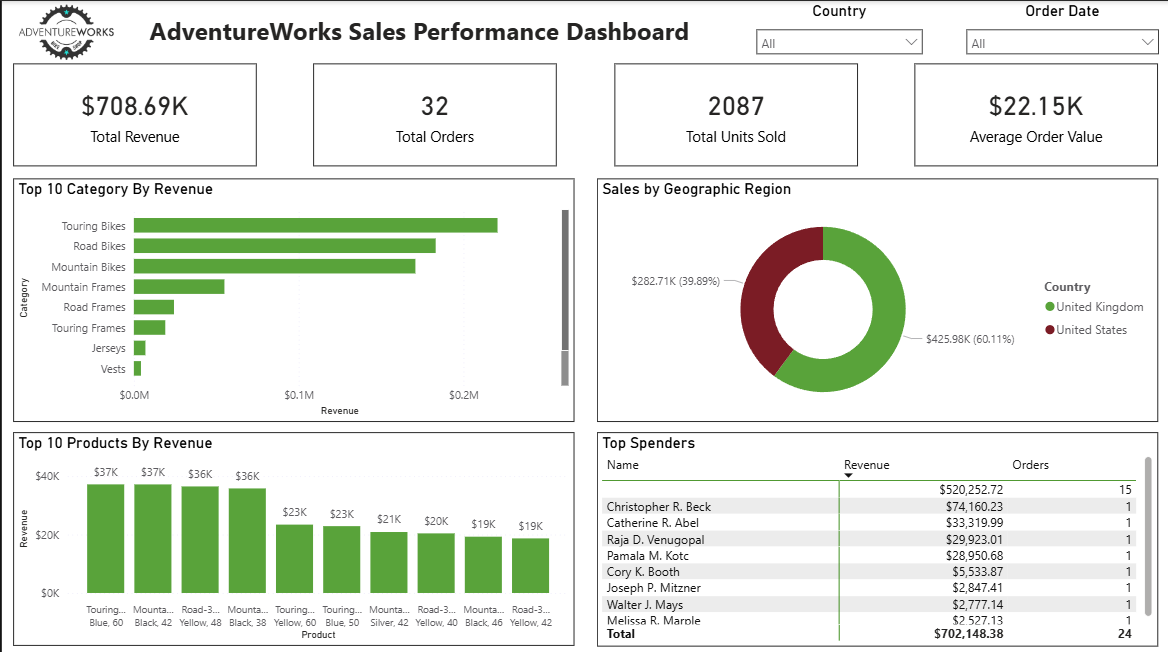

The page's visual inventory and layout, read from the dashboard file:
{"tool":"powerbi","page":{"name":"Page 1","canvas":[1280,720],"ordinal":0},"visuals":[{"type":"textbox","box":[118,9.6,680.6,49.4],"z":0},{"type":"card","fields":{"Values":["DimCustomer.Total Revenue"]},"box":[12.3,68.6,267.6,112.5],"z":3000},{"type":"card","fields":{"Values":["DimCustomer.Total Orders"]},"box":[342.1,68.6,267.6,112.5],"z":4000},{"type":"card","fields":{"Values":["DimCustomer.Total Units Sold"]},"box":[671.9,68.6,267.6,112.5],"z":5000},{"type":"card","fields":{"Values":["DimCustomer.Average Order Value"]},"box":[1001.7,68.6,267.6,112.5],"z":6000},{"type":"clusteredBarChart","title":"Top 10 Category By Revenue","fields":{"Category":["DimProduct.CategoryName"],"Y":["DimCustomer.Total Revenue"]},"box":[12.3,194.9,616.1,267.6],"z":7000},{"type":"donutChart","title":"Sales by Geographic Region","fields":{"Category":["DimCustomer.CountryRegion"],"Y":["DimCustomer.Total Revenue"]},"box":[653.2,194.9,616.1,267.6],"z":8000},{"type":"clusteredColumnChart","title":"Top 10 Products By Revenue","fields":{"Y":["DimCustomer.Total Revenue"],"Category":["DimProduct.ProductName"]},"box":[12.3,473.4,616.1,234.6],"z":9000},{"type":"pivotTable","title":"Top Spenders","fields":{"Rows":["DimCustomer.FullName"],"Values":["DimCustomer.Total Revenue","DimCustomer.Total Orders"]},"box":[653,473,616,235],"z":9001},{"type":"slicer","title":"Country","fields":{"Values":["DimCustomer.CountryRegion"]},"box":[817.8,0,203.1,59],"z":9002},{"type":"slicer","title":"Order Date","fields":{"Values":["FactSales.OrderDate"]},"box":[1048.4,0,231.9,59],"z":9003},{"type":"image","box":[6.9,0,127.6,68.6],"z":9004}]}

Visuals, with their boxes in screenshot pixels (x1, y1, x2, y2), scaled from the page's 1280x720 canvas onto the 1168x652 screenshot:
textbox: {"left": 108, "top": 9, "right": 729, "bottom": 53}
card - DimCustomer.Total Revenue: {"left": 11, "top": 62, "right": 255, "bottom": 164}
card - DimCustomer.Total Orders: {"left": 312, "top": 62, "right": 556, "bottom": 164}
card - DimCustomer.Total Units Sold: {"left": 613, "top": 62, "right": 857, "bottom": 164}
card - DimCustomer.Average Order Value: {"left": 914, "top": 62, "right": 1158, "bottom": 164}
"Top 10 Category By Revenue" clusteredBarChart: {"left": 11, "top": 176, "right": 573, "bottom": 419}
"Sales by Geographic Region" donutChart: {"left": 596, "top": 176, "right": 1158, "bottom": 419}
"Top 10 Products By Revenue" clusteredColumnChart: {"left": 11, "top": 429, "right": 573, "bottom": 641}
"Top Spenders" pivotTable: {"left": 596, "top": 428, "right": 1158, "bottom": 641}
"Country" slicer: {"left": 746, "top": 0, "right": 932, "bottom": 53}
"Order Date" slicer: {"left": 957, "top": 0, "right": 1167, "bottom": 53}
image: {"left": 6, "top": 0, "right": 123, "bottom": 62}
